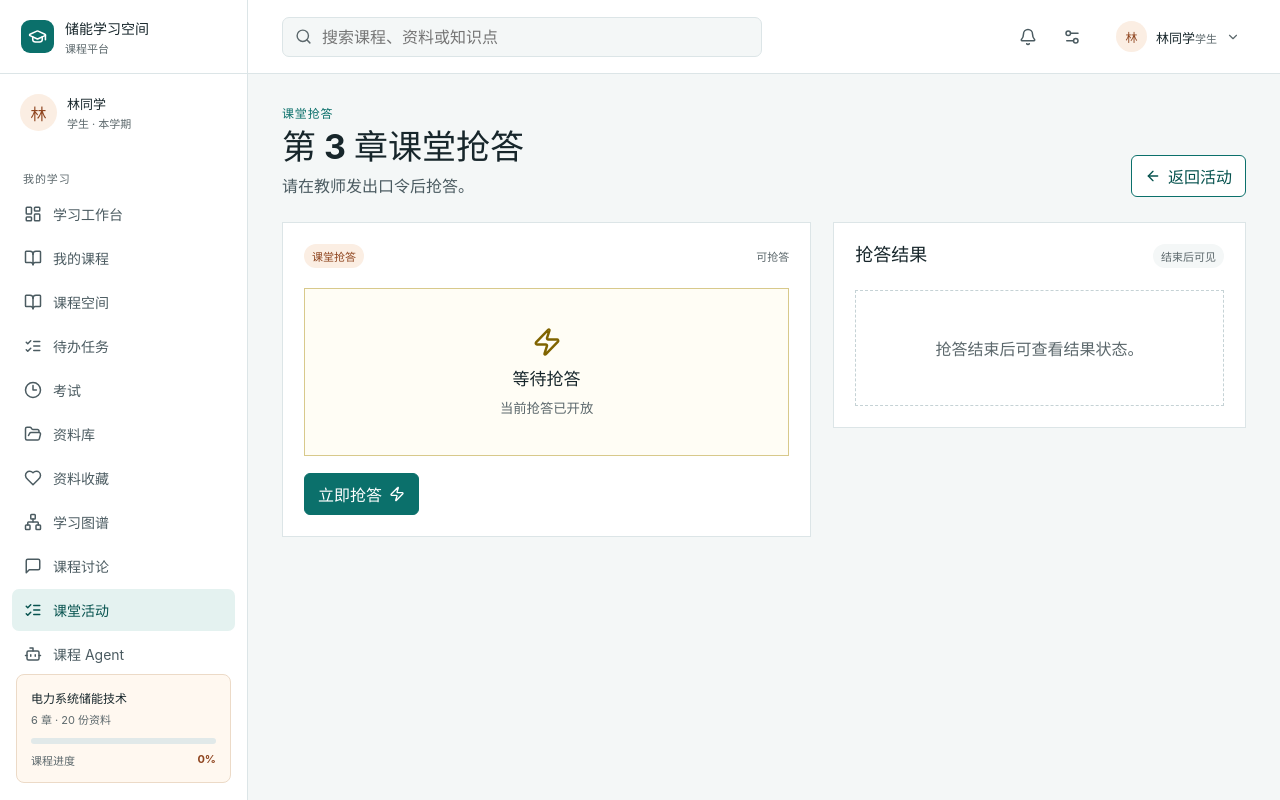
Test case: learning platform component › sends only one quick-response POST when the claim button is clicked twice
The width and height of the screenshot is (1280, 800).
Click the button "立即抢答" at x=362, y=494, box [304, 473, 419, 515]
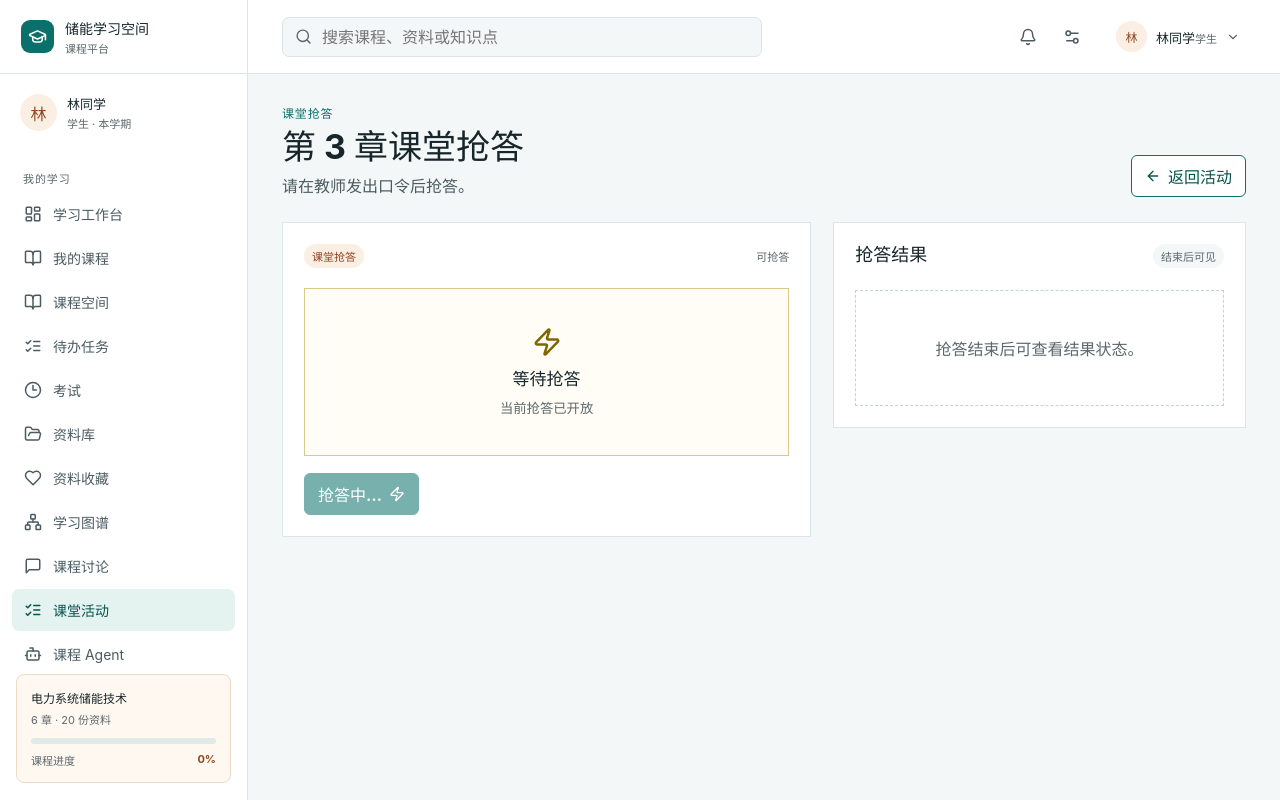
Click the button named "立即抢答" at x=362, y=494, box [304, 473, 419, 515]
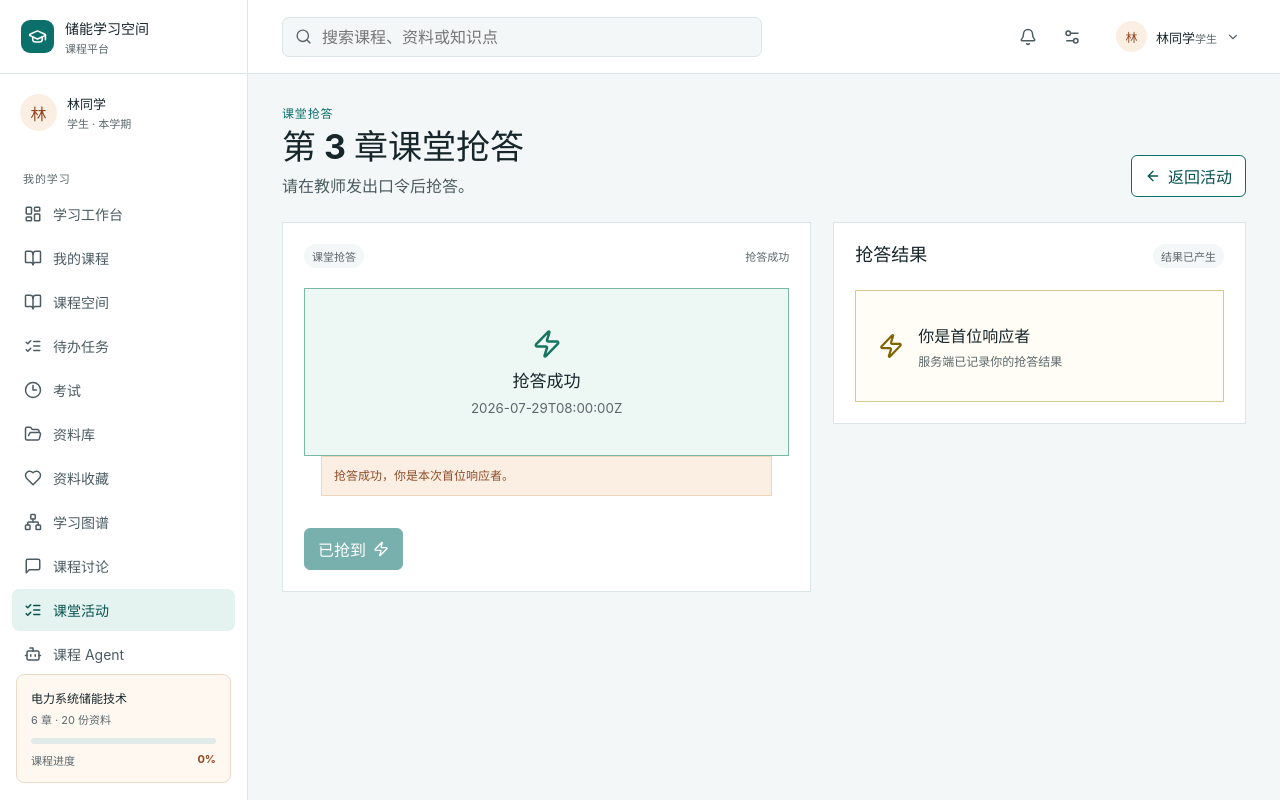
Expected: the text "抢答成功，你是本次首位响应者。" is shown, [321, 456, 772, 496]
